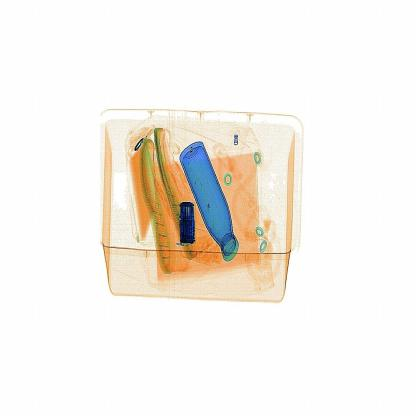scissors: (176, 194, 202, 251)
